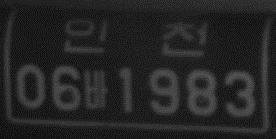0: (16, 63, 47, 110)
1: (116, 65, 137, 113)
3: (223, 70, 255, 118)
6: (51, 64, 81, 112)
8: (186, 68, 218, 116)
9: (148, 67, 180, 115)
바: (82, 68, 109, 111)
인천_D: (62, 16, 209, 60)
